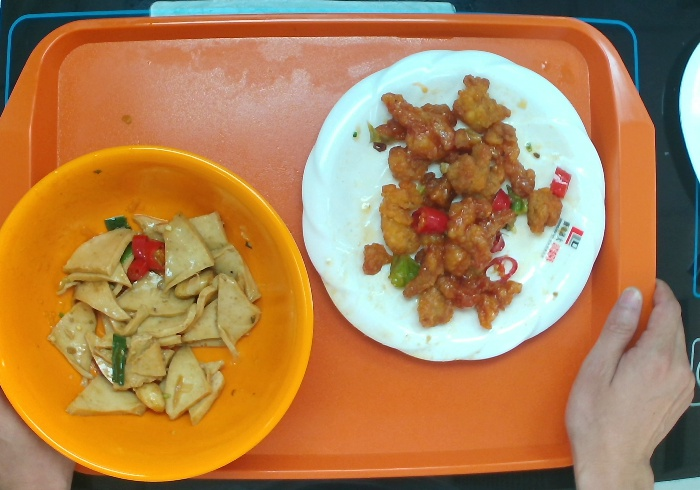ZNLD-Hua_Bian_Wan: (290, 42, 610, 374)
ZNLD-Ju_Se_Tang_Wan: (1, 140, 319, 490)
